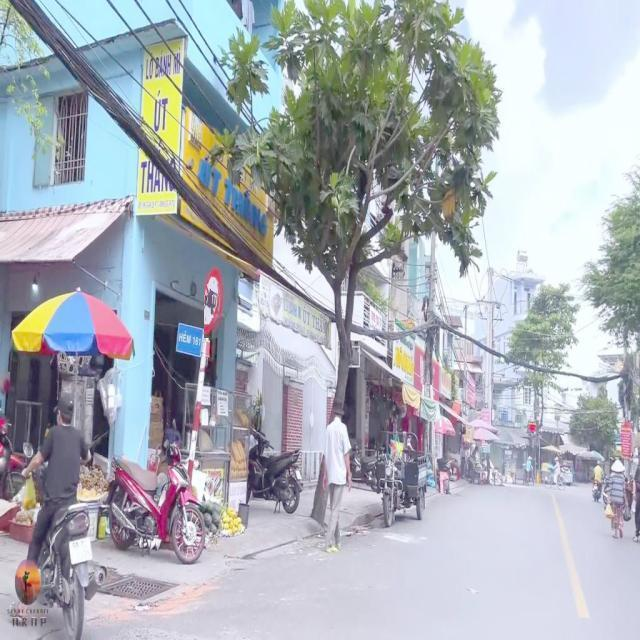106-cam-oto-tai: (204, 266, 224, 338)
